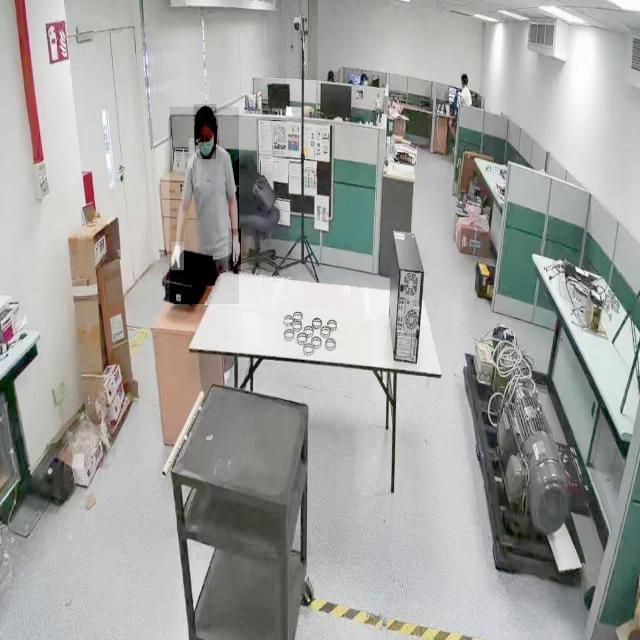gloves: (228, 228, 242, 272), (171, 242, 185, 272)
